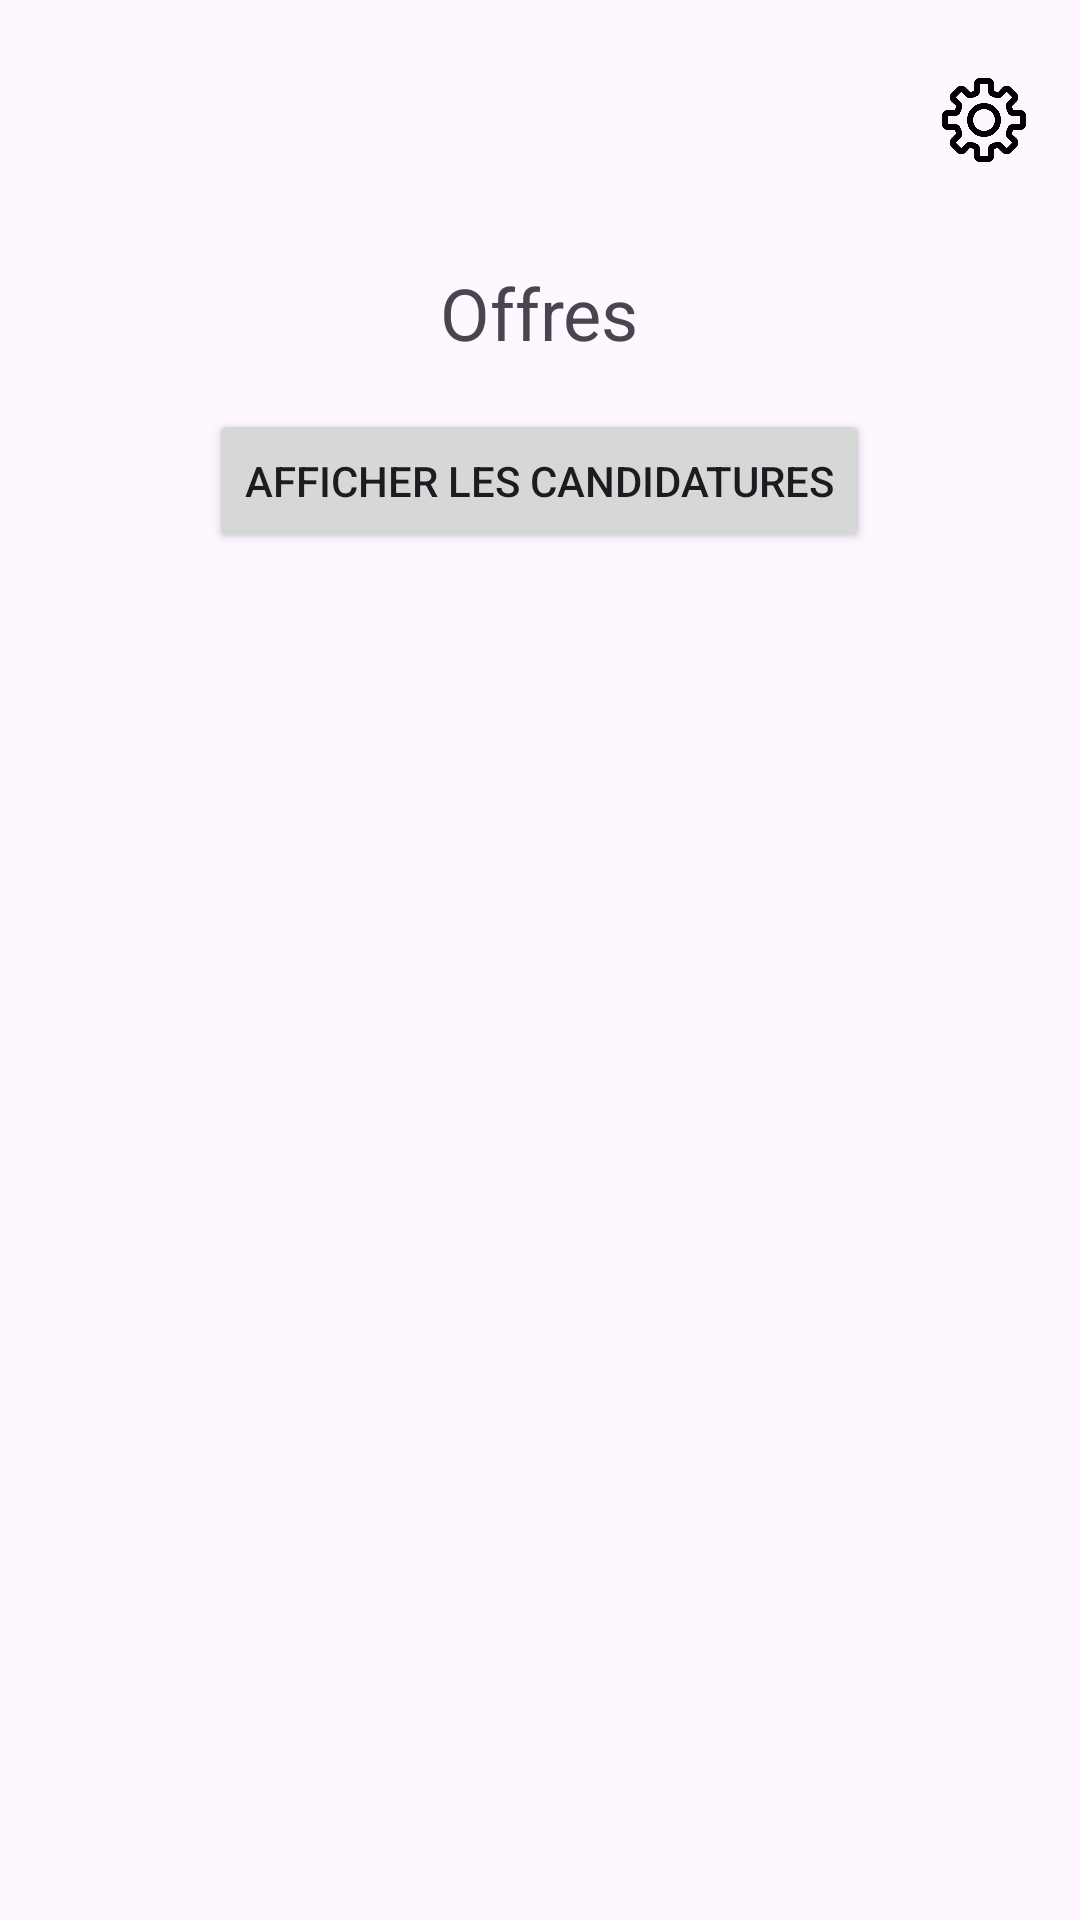

Icon click points for this 1080×1920 phone screenshot, format (x=x, y=y):
Paramètres: (x=984, y=120)
